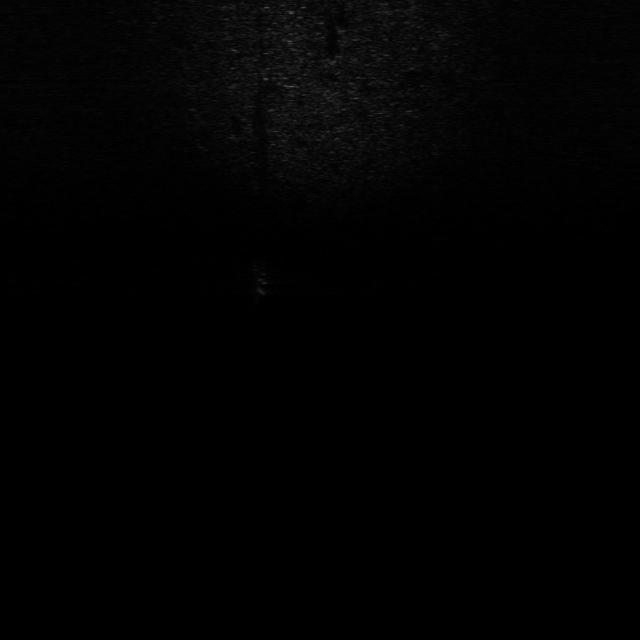human body: (244, 257, 277, 305)
